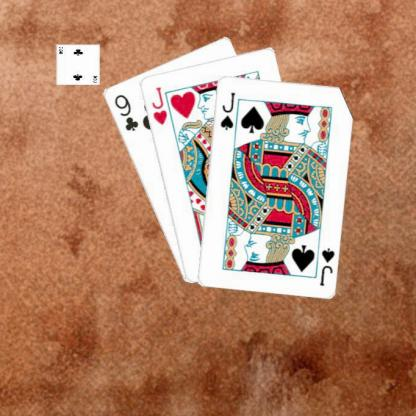9C: (111, 91, 140, 133)
JH: (148, 84, 168, 126)
JS: (316, 245, 336, 287), (217, 89, 236, 131)
